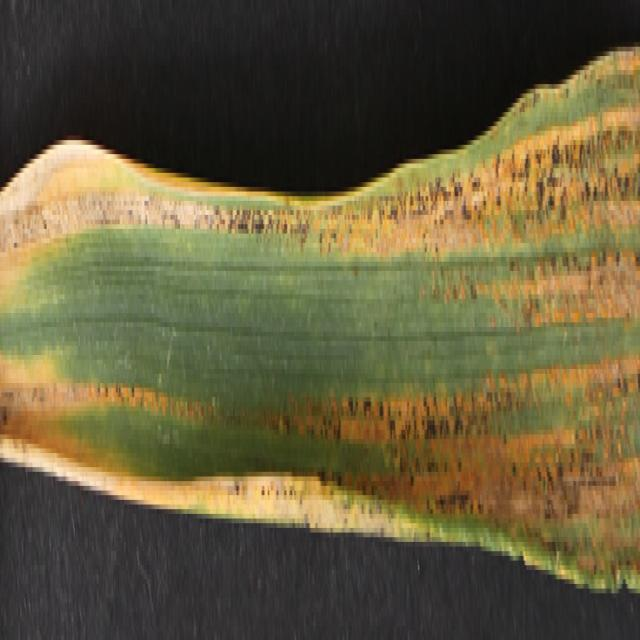leaf rust: (1, 66, 640, 588)
